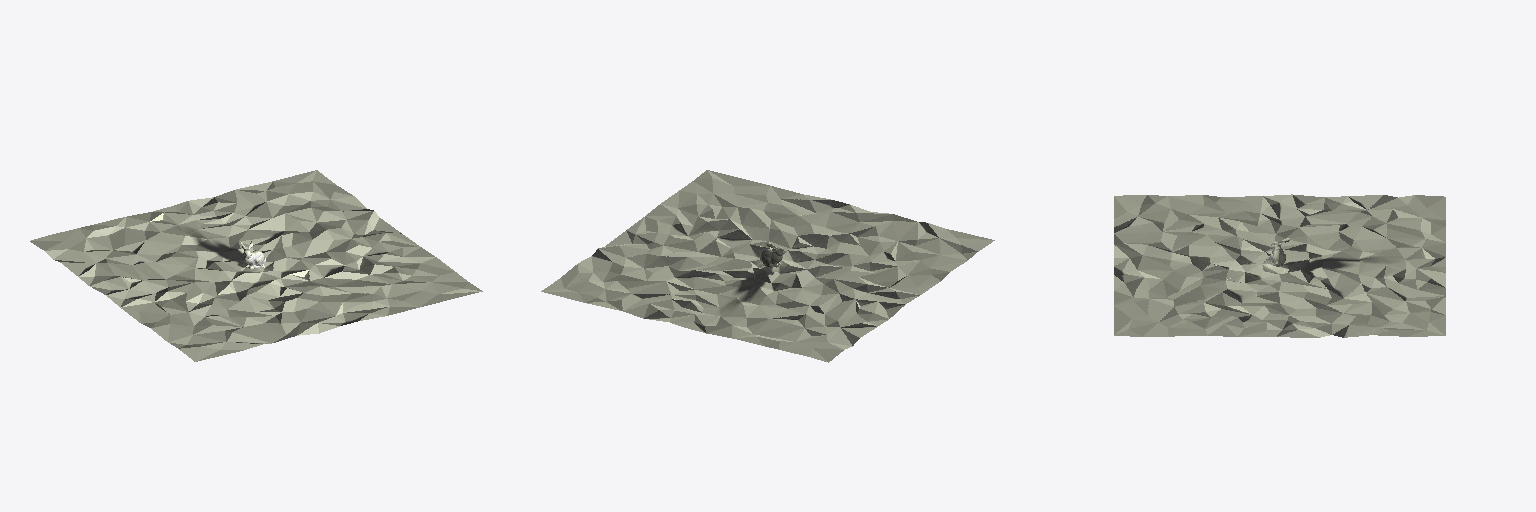
3 renders of one model, left to right at view 1: azimuth 30°, elevation 25°; view 2: azimuth 150°, elevation 25°; view 3: azimuth 270°, elevation 25°, orthographic.
Visible parts, largest first — view 1: Plane; view 2: Plane; view 3: Plane.
Boxes of the visible parts, box(x1,y1,x2,y2) form: Plane: box(30, 170, 482, 361); Plane: box(541, 170, 994, 362); Plane: box(1114, 194, 1445, 337).
Size of the model in its own units: 2 by 0.1896 by 2.
2 materials, 2 textured.